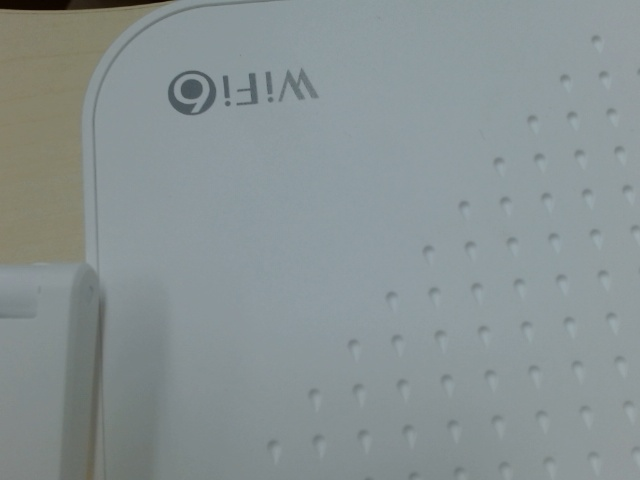AK_ZTEWIFI6: (160, 60, 331, 119)
